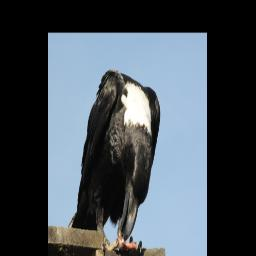Crow: (68, 65, 162, 256)
